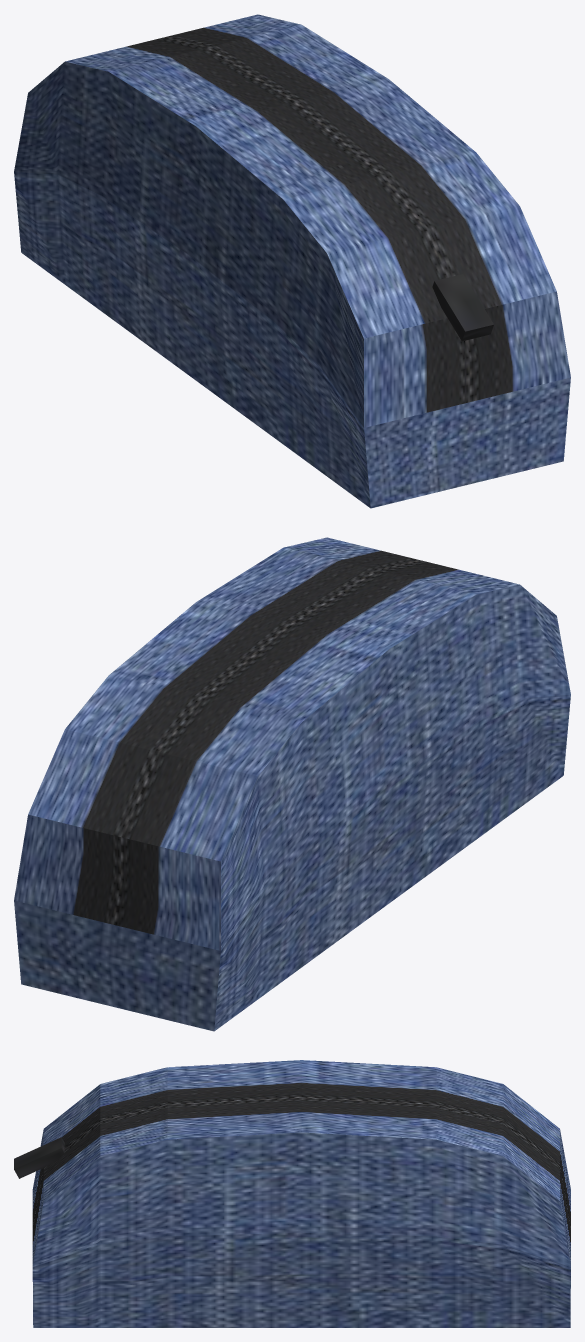
File: pencilCase001.fbx
3 renders of one model, top to bottom at view 1: azimuth 30°, elevation 25°; view 2: azimuth 150°, elevation 25°; view 3: azimuth 270°, elevation 25°, orthographic. The views are drawn at different scales.
Parts seen in each view (by area): view 1: Cube.001; view 2: Cube.001; view 3: Cube.001.
Part boxes in pixels (x1=…): Cube.001: x1=14, y1=14, x2=570, y2=508; Cube.001: x1=14, y1=537, x2=570, y2=1031; Cube.001: x1=14, y1=1060, x2=570, y2=1327.
Bounding box in the file's own units: 40.53 × 47.59 × 123.
Materials: 3 (3 with a texture image).
